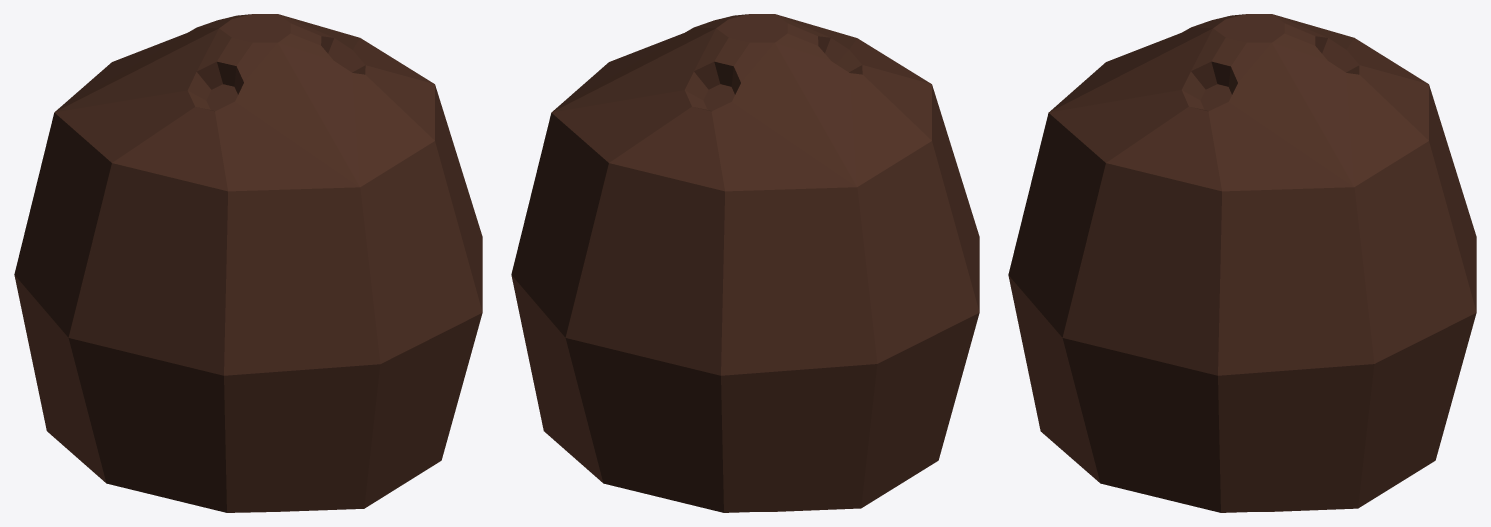
The model's file is Coconut.fbx.
3 renders of one model, left to right at view 1: azimuth 30°, elevation 25°; view 2: azimuth 150°, elevation 25°; view 3: azimuth 270°, elevation 25°, orthographic.
Visible parts, largest first — view 1: Coconut; view 2: Coconut; view 3: Coconut.
Part boxes in pixels (bbox=[...]): Coconut: bbox=[14, 14, 482, 512]; Coconut: bbox=[511, 14, 979, 512]; Coconut: bbox=[1008, 14, 1476, 512].
Bounding box in the file's own units: 1.34 × 1.44 × 1.31.
